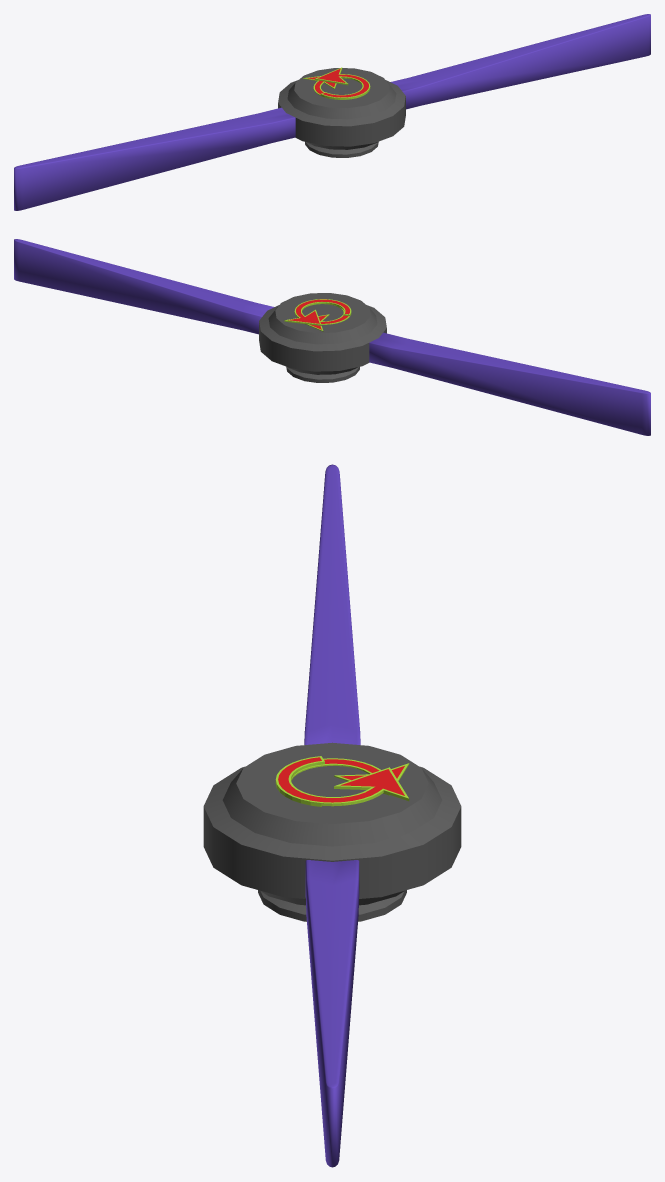
The model's file is Obstacle_02.fbx.
3 views of the same model, one above another, from view 1: azimuth 30°, elevation 25°; view 2: azimuth 150°, elevation 25°; view 3: azimuth 270°, elevation 25° (orthographic). The views are drawn at different scales.
Visible parts, largest first — view 1: Head_04, Head_02, Center, Circle.001, Base; view 2: Head_04, Head_02, Center, Circle.001, Base, Circle; view 3: Center, Head_02, Head_04, Circle.001, Base.
Part boxes in pixels (left/top/right/bottom): Head_04: left=14, top=107, right=295, bottom=210; Head_02: left=390, top=14, right=650, bottom=109; Center: left=278, top=68, right=405, bottom=149; Circle.001: left=315, top=67, right=370, bottom=99; Base: left=305, top=142, right=378, bottom=157; Head_04: left=369, top=332, right=650, bottom=435; Head_02: left=14, top=239, right=274, bottom=334; Center: left=259, top=293, right=386, bottom=374; Circle.001: left=284, top=299, right=351, bottom=325; Base: left=286, top=367, right=359, bottom=382; Circle: left=305, top=303, right=351, bottom=331; Center: left=203, top=742, right=461, bottom=905; Head_02: left=305, top=860, right=359, bottom=1167; Head_04: left=304, top=464, right=360, bottom=744; Circle.001: left=275, top=756, right=409, bottom=806; Base: left=258, top=890, right=406, bottom=921.
Bounding box in the file's own units: 1971 × 167 × 345.
